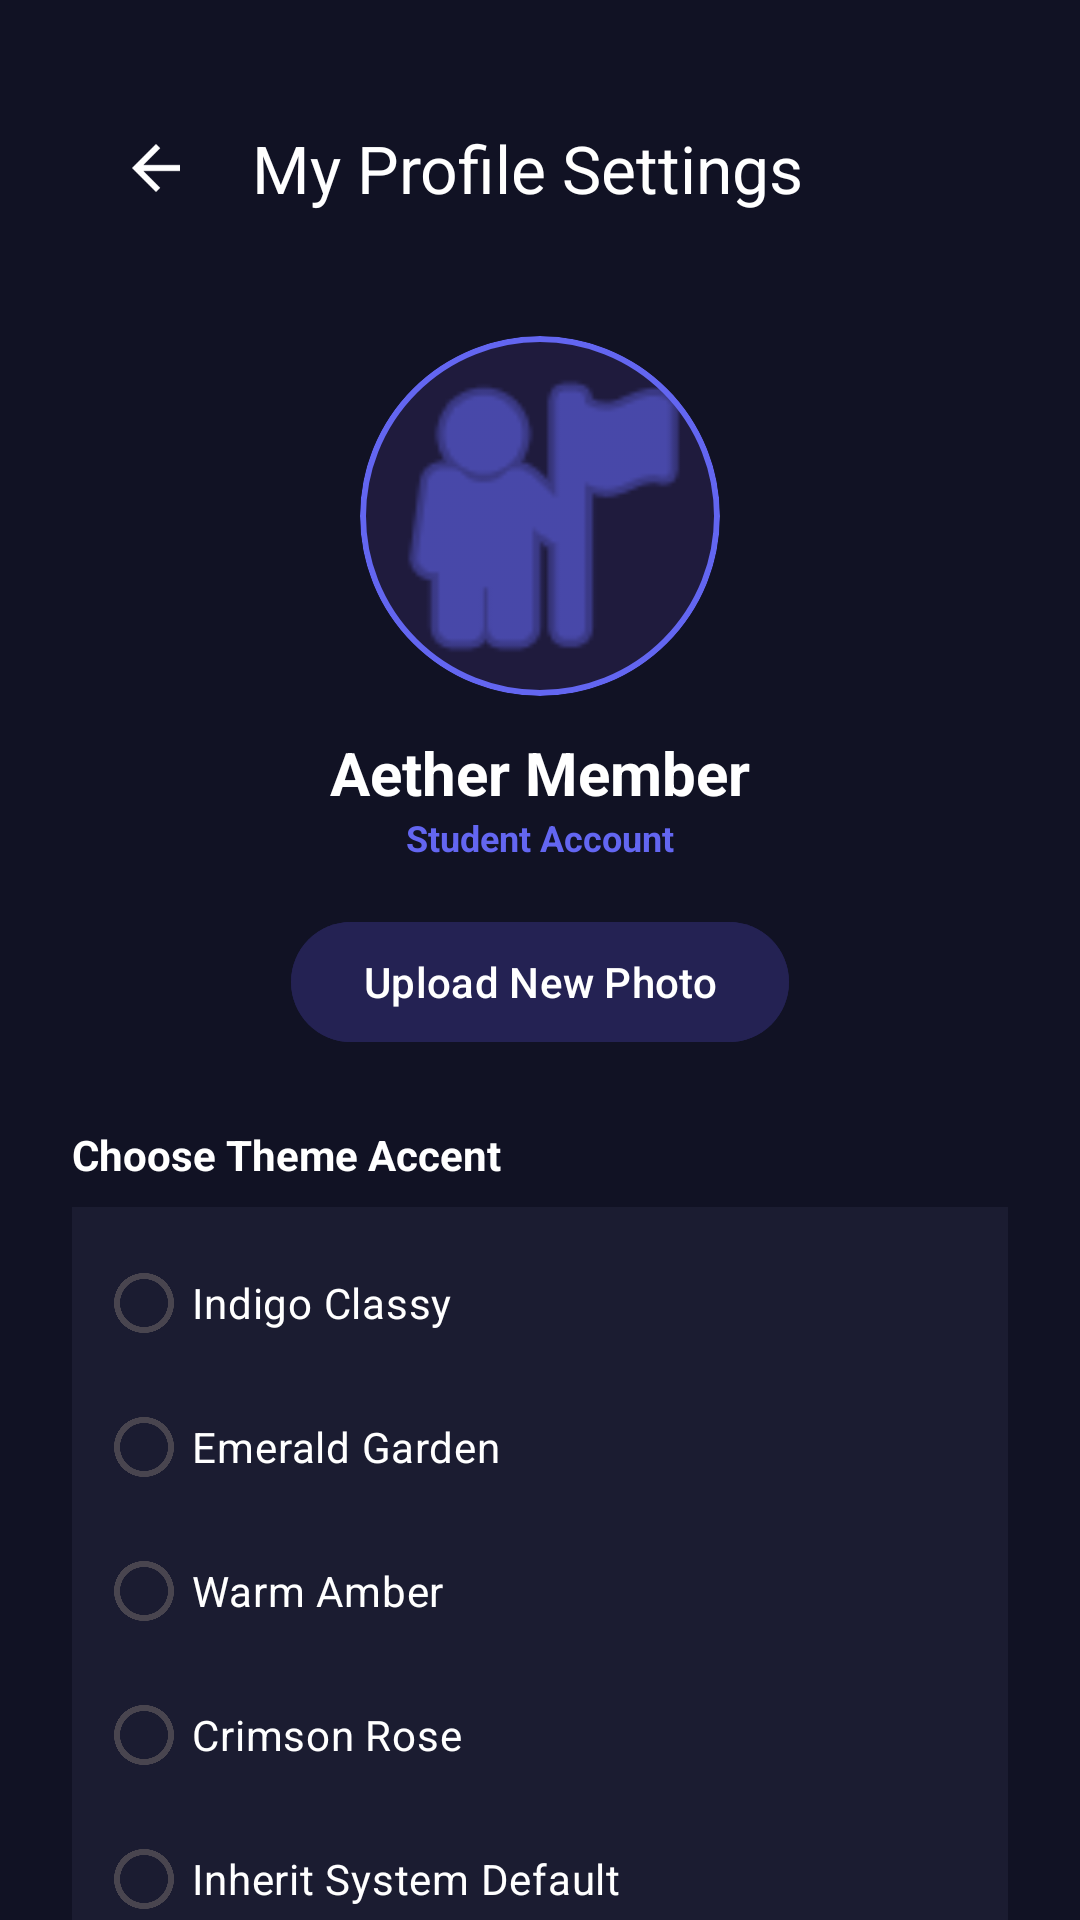

Icons on this 1080×1920 Android screen, each with the point to tap as [x,y]:
myplaces: [540,516]
